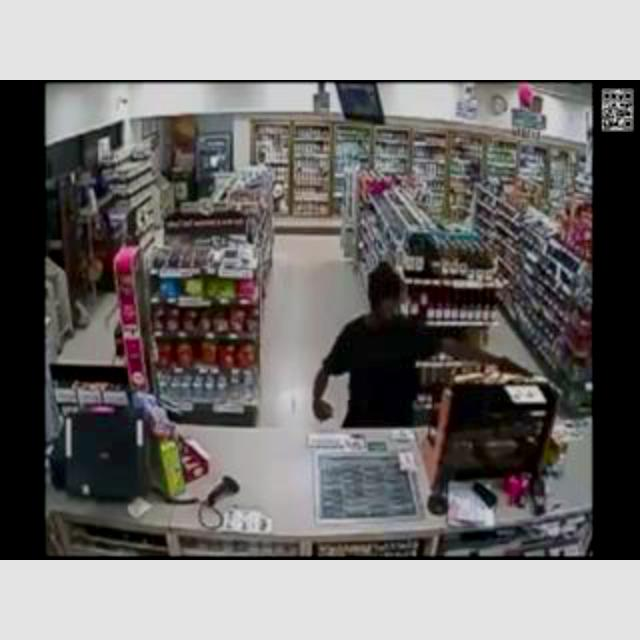criminal: (312, 260, 538, 430)
weapon: (493, 354, 535, 380)
